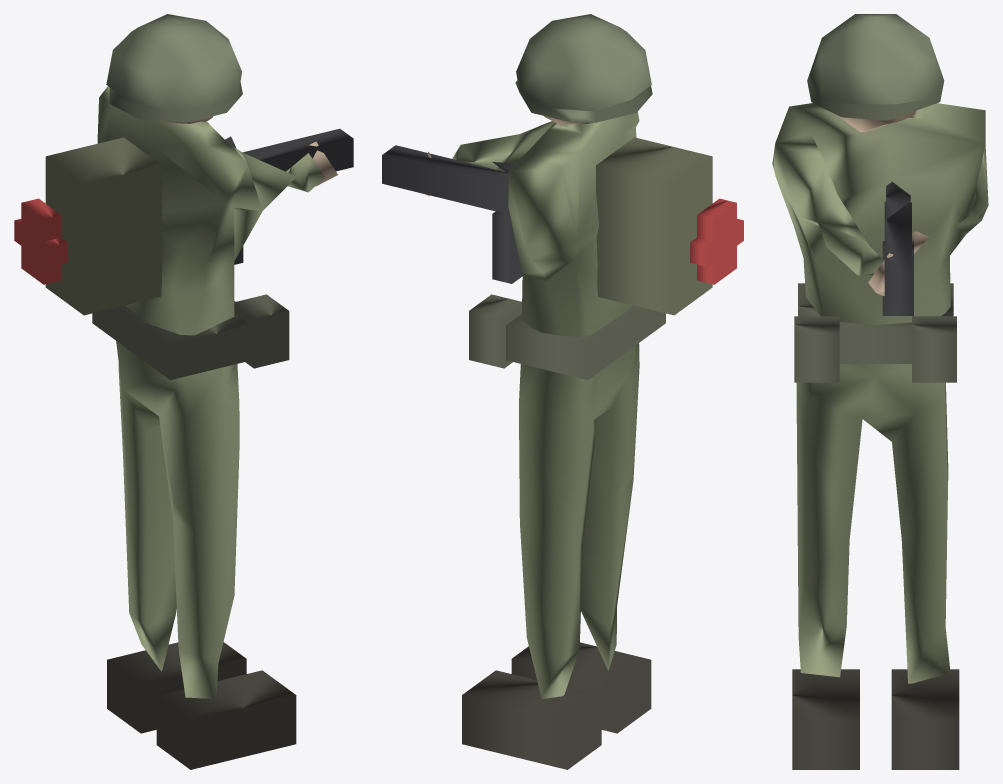
Rendered from medic.lod2.glb.
3 views of the same model, side by side, from view 1: azimuth 30°, elevation 25°; view 2: azimuth 150°, elevation 25°; view 3: azimuth 270°, elevation 25° (orthographic).
Size of the model in its own units: 0.8325 by 1.74 by 0.4788.
